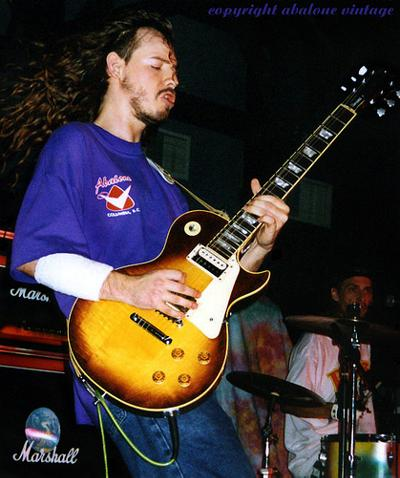person: (11, 24, 289, 475)
